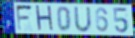0: (56, 6, 73, 33)
5: (112, 7, 130, 35)
6: (95, 7, 110, 33)
F: (15, 5, 35, 33)
H: (34, 4, 55, 33)
U: (73, 6, 93, 33)
